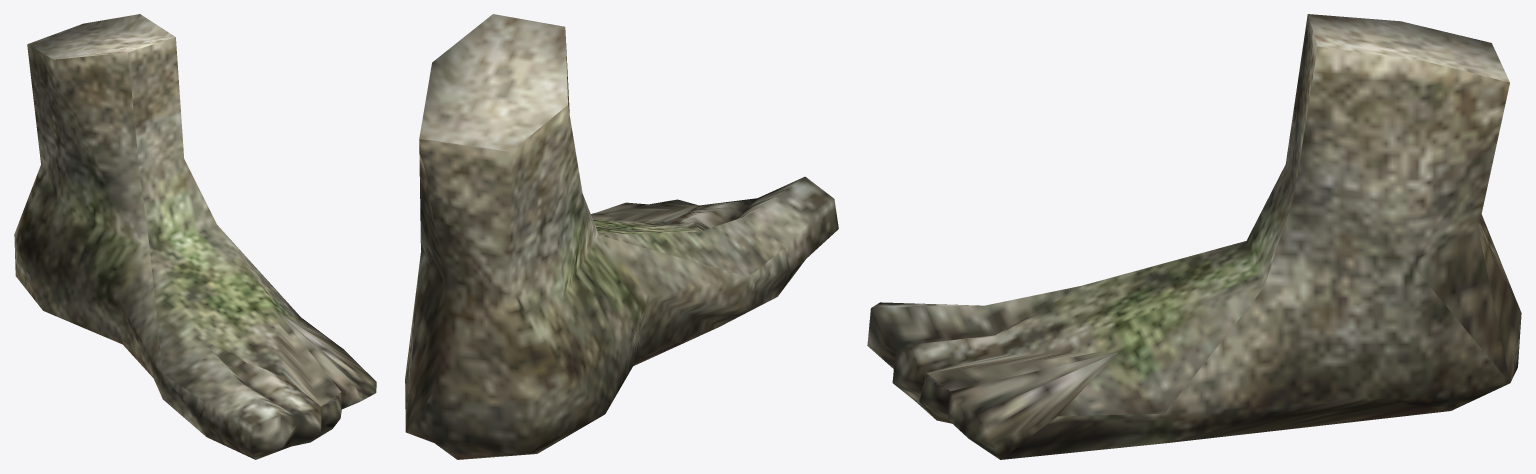
Rendered from general_obj_stoneimage02_lod_01.fbx.
3 views of the same model, side by side, from view 1: azimuth 30°, elevation 25°; view 2: azimuth 150°, elevation 25°; view 3: azimuth 270°, elevation 25° (orthographic). The views are drawn at different scales.
Visible parts, largest first — view 1: Sphere01; view 2: Sphere01; view 3: Sphere01.
Boxes of the visible parts, box(x1,y1,x2,y2) form: Sphere01: box(14, 14, 376, 459); Sphere01: box(405, 14, 838, 459); Sphere01: box(867, 14, 1521, 459).
Bounding box in the file's own units: 1.75 × 2.59 × 4.17.
